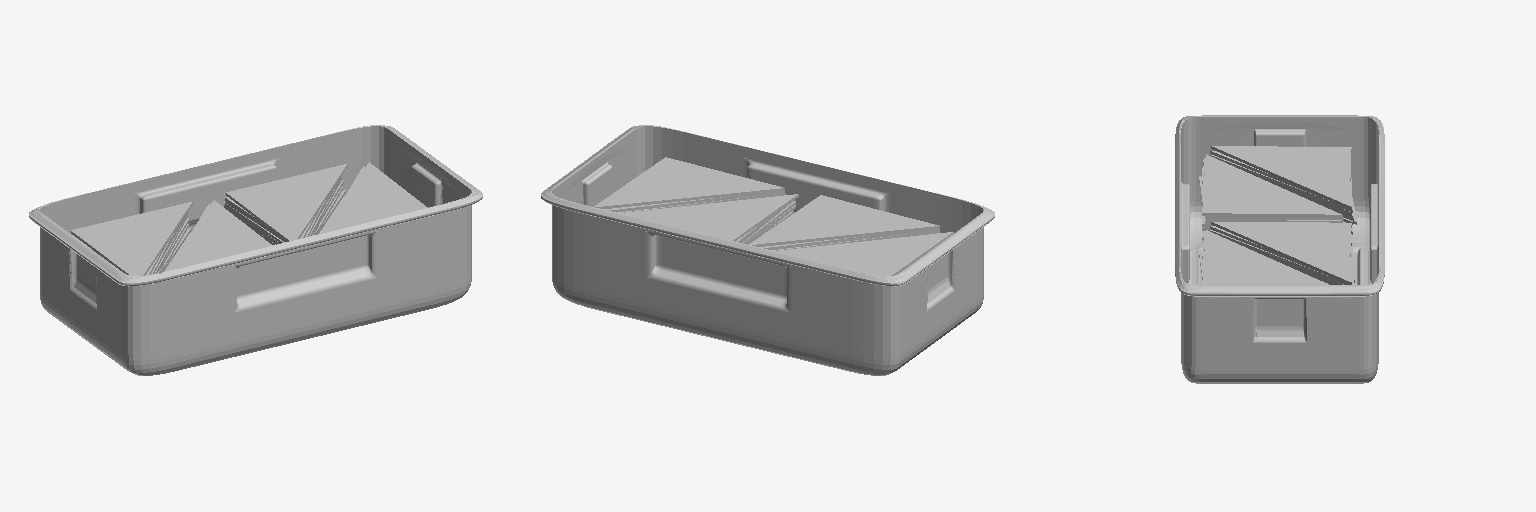
Rendered from Contenedor_queso.obj.
The picture shows the model from 3 angles: view 1: azimuth 30°, elevation 25°; view 2: azimuth 150°, elevation 25°; view 3: azimuth 270°, elevation 25°; orthographic projection.
Visible parts, largest first — view 1: Contenedor, Queso, Queso.007, Queso.005, Queso.006, Queso.001, Queso.004; view 2: Contenedor, Queso.006, Queso.005, Queso, Queso.007, Queso.002, Queso.003, Queso.001; view 3: Contenedor, Queso, Queso.006, Queso.007, Queso.005, Queso.004, Queso.001, Queso.003.
Boxes of the visible parts, x1,y1,x2,y2 form: Contenedor: [29, 125, 482, 375]; Queso: [226, 164, 347, 241]; Queso.007: [71, 202, 192, 275]; Queso.005: [319, 162, 427, 233]; Queso.006: [164, 200, 271, 271]; Queso.001: [224, 176, 345, 244]; Queso.004: [73, 213, 191, 275]; Contenedor: [541, 125, 994, 375]; Queso.006: [749, 195, 939, 246]; Queso.005: [594, 157, 784, 208]; Queso: [620, 194, 798, 241]; Queso.007: [776, 232, 953, 275]; Queso.002: [604, 191, 785, 212]; Queso.003: [760, 229, 939, 250]; Queso.001: [736, 200, 795, 244]; Contenedor: [1175, 115, 1384, 383]; Queso: [1211, 222, 1351, 284]; Queso.006: [1202, 154, 1341, 217]; Queso.007: [1211, 146, 1351, 208]; Queso.005: [1202, 230, 1328, 284]; Queso.004: [1209, 151, 1356, 282]; Queso.001: [1209, 226, 1354, 284]; Queso.003: [1199, 158, 1343, 284].
Bounding box in the file's own units: 1.57 × 0.452 × 0.7802.